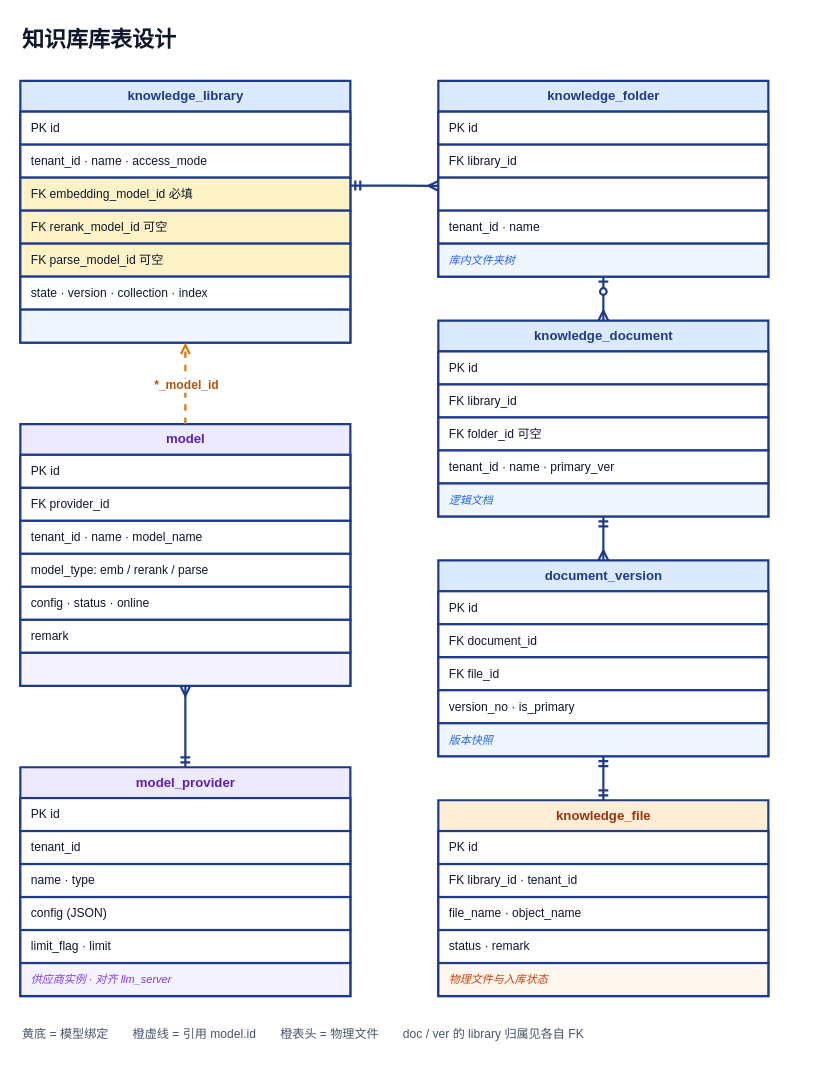
Some shapes in this 831 by 1065 pixel diagram are drawn without their labels. The shapes that lost their labels are listed below. From the top down, each one's centre as x and y in pixels, then its label:
At pixel 603 193: "FK parent_id 可空".
At pixel 185 325: "文档库 · 三类模型绑在库上".
At pixel 185 668: "具体模型 · 对齐 llm_model".
